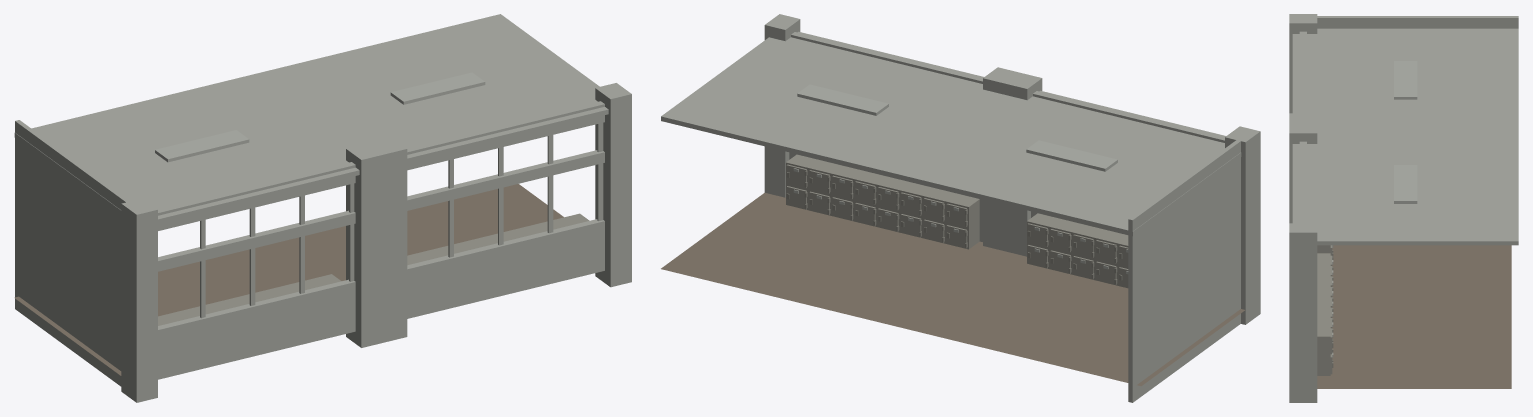
File: school_hallway.fbx
3 views of the same model, side by side, from view 1: azimuth 30°, elevation 25°; view 2: azimuth 150°, elevation 25°; view 3: azimuth 270°, elevation 25° (orthographic). The views are drawn at different scales.
Parts seen in each view (by area): view 1: pPlane220, pPlane299, pPlane302, pPlane219, pPlane228, pPlane221, pPlane223, pPlane296, pPlane226 (×2), pPlane300, pPlane301; view 2: pPlane220, pPlane219, pPlane302, pPlane226 (×2), pPlane221, pPlane228, pPlane299, pPlane223, pPlane301, pPlane300; view 3: pPlane220, pPlane219, pPlane223, pPlane302, pPlane226, pPlane299, pPlane228, pPlane301, pPlane300, pPlane221.
Part boxes in pixels (<box>): pPlane220: <box>14,14,608,223</box>; pPlane299: <box>158,101,604,379</box>; pPlane302: <box>15,120,143,386</box>; pPlane219: <box>14,184,563,375</box>; pPlane228: <box>346,137,407,347</box>; pPlane221: <box>121,198,157,402</box>; pPlane223: <box>595,83,631,287</box>; pPlane296: <box>200,122,603,317</box>; pPlane226 (×2): <box>158,213,589,325</box>; pPlane300: <box>390,72,485,104</box>; pPlane301: <box>155,130,249,162</box>; pPlane220: <box>661,31,1241,235</box>; pPlane219: <box>661,192,1244,386</box>; pPlane302: <box>1128,130,1253,402</box>; pPlane226 (×2): <box>786,154,1128,288</box>; pPlane221: <box>1225,126,1260,324</box>; pPlane228: <box>983,67,1042,256</box>; pPlane299: <box>791,32,1224,142</box>; pPlane223: <box>764,14,800,197</box>; pPlane301: <box>1026,140,1117,171</box>; pPlane300: <box>797,84,888,115</box>; pPlane220: <box>1292,28,1518,245</box>; pPlane219: <box>1317,245,1511,388</box>; pPlane223: <box>1289,223,1317,402</box>; pPlane302: <box>1292,16,1518,28</box>; pPlane226: <box>1317,253,1332,375</box>; pPlane299: <box>1299,31,1306,223</box>; pPlane228: <box>1289,113,1317,223</box>; pPlane301: <box>1394,61,1417,99</box>; pPlane300: <box>1394,165,1417,203</box>; pPlane221: <box>1289,14,1317,113</box>.
Bounding box in the file's own units: 14.6 × 5.3 × 6.47.
